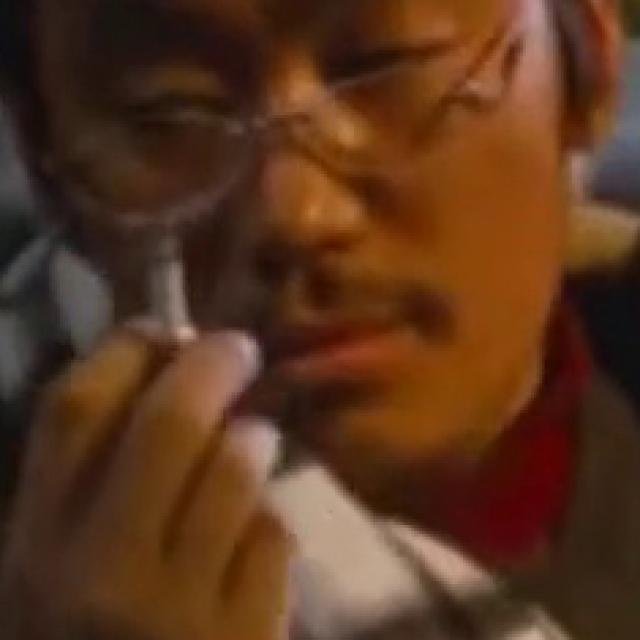smoking: (144, 231, 189, 354)
